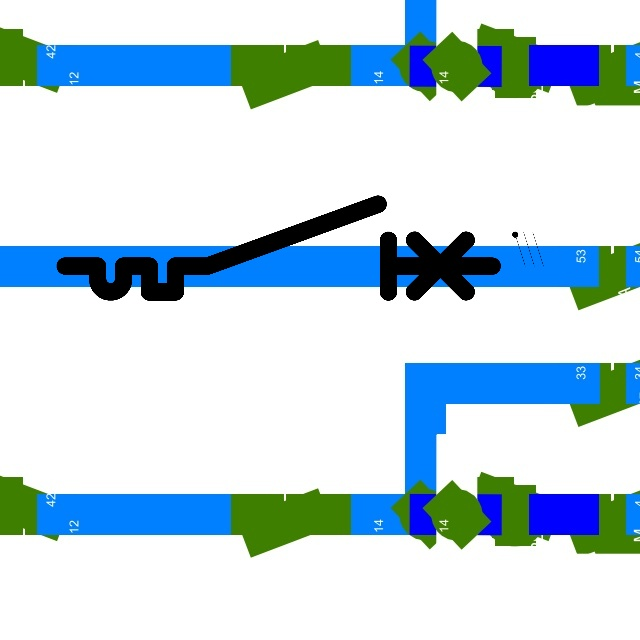interruptor_termomagnetico: (54, 193, 503, 303)
